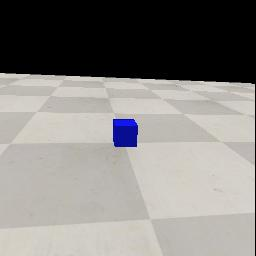box: (113, 119, 138, 147)
